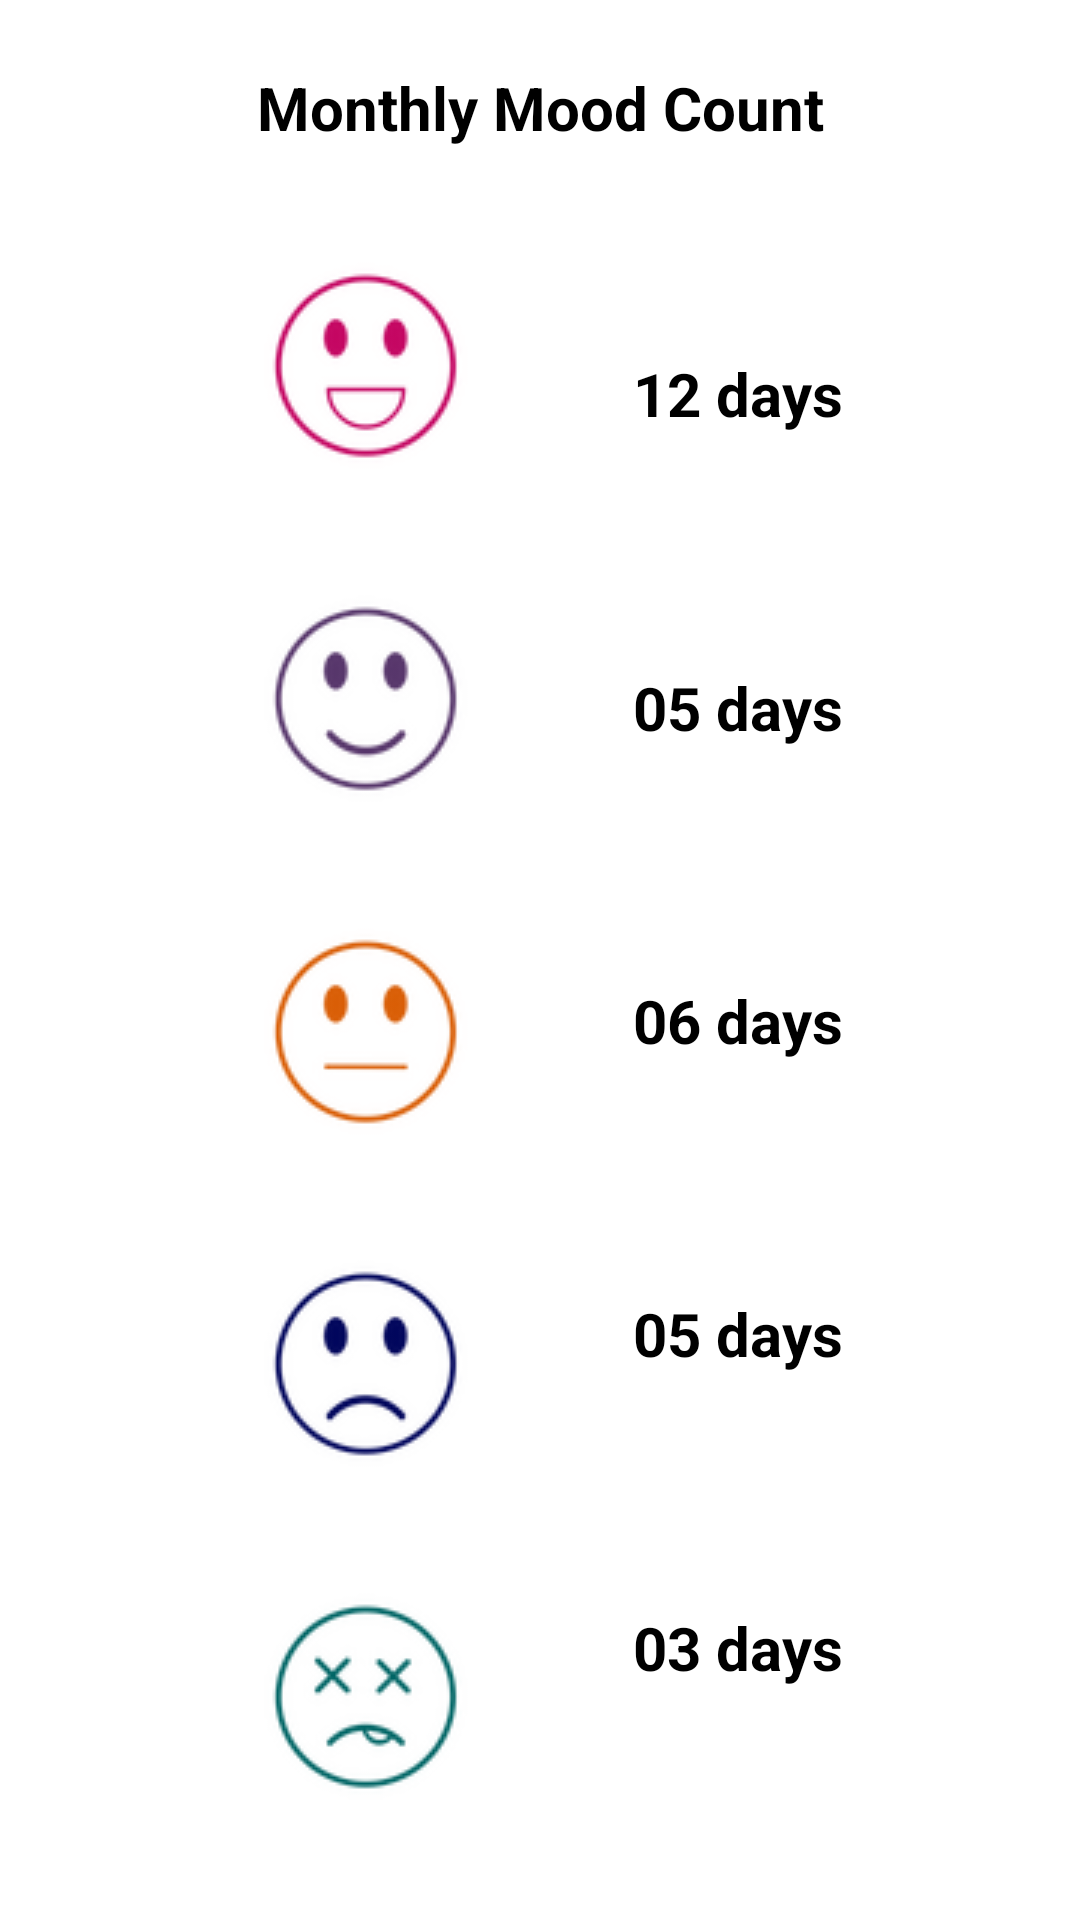

Icon click points for this 1080x1920 phone screenshot, format (x,y):
awfulr: (365,1696)
happyr: (365,698)
neutralr: (365,1031)
unhappyr: (365,1363)
wonderfulr: (365,365)
